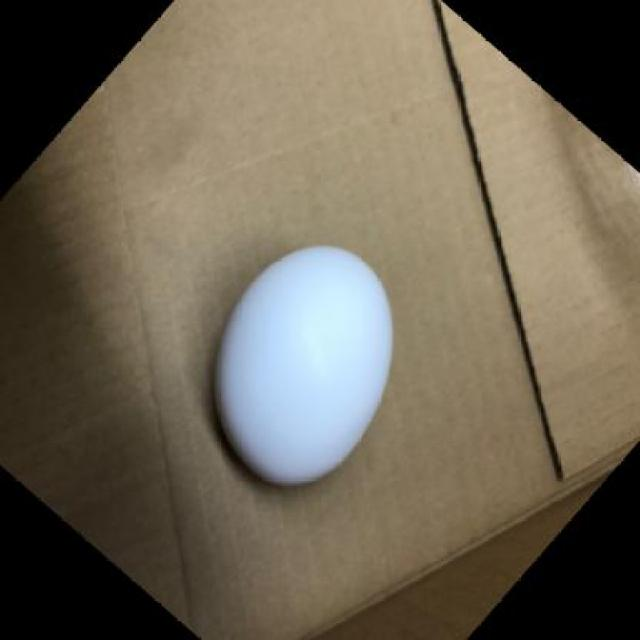egg: (211, 238, 399, 494)
